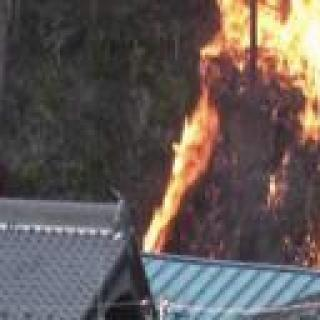fire: (162, 0, 320, 258)
